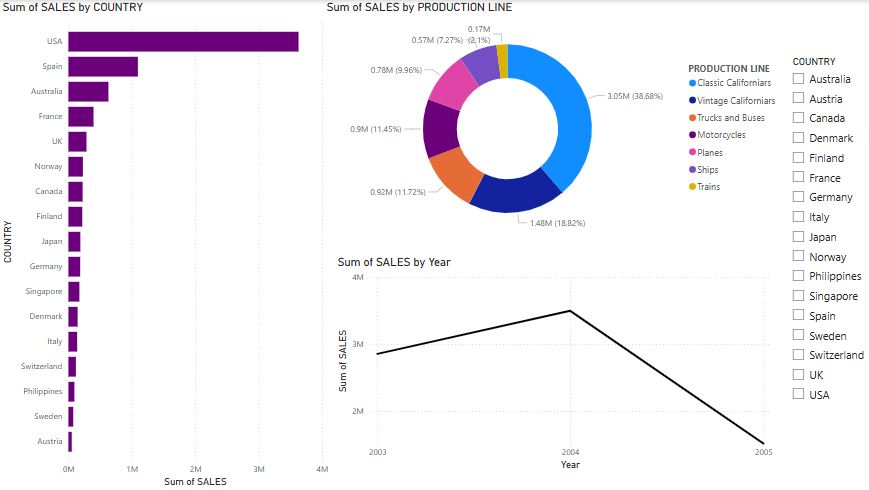

The page's visual inventory and layout, read from the dashboard file:
{"tool":"powerbi","page":{"name":"TASK - 8","canvas":[1280,720],"ordinal":0},"visuals":[{"type":"lineChart","fields":{"Category":["Sheet1.ORDER DATE.Variation.Date Hierarchy.Year","Sheet1.ORDER DATE.Variation.Date Hierarchy.Quarter","Sheet1.ORDER DATE.Variation.Date Hierarchy.Month","Sheet1.ORDER DATE.Variation.Date Hierarchy.Day"],"Y":["Sum(Sheet1.SALES)"]},"box":[492.2,374.7,649.5,321.8],"z":0},{"type":"barChart","fields":{"Y":["Sum(Sheet1 (2).SALES)"],"Category":["Sheet1 (2).COUNTRY"]},"box":[0,0,488.8,720.6],"z":1},{"type":"donutChart","fields":{"Y":["Sum(Sheet1 (2).SALES)"],"Category":["Sheet1 (2).PRODUCTION LINE"]},"box":[475.4,0,678.6,359.5],"z":2},{"type":"slicer","fields":{"Values":["Sheet1 (2).COUNTRY"]},"box":[1153.5,77.9,126.4,524.6],"z":3}]}

Visuals, with their boxes in screenshot pixels (x1, y1, x2, y2), scaled from the page's 1280x720 canvas onto the 869x490 screenshot:
lineChart - Sheet1.ORDER DATE.Variation.Date Hierarchy.Year x Sheet1.ORDER DATE.Variation.Date Hierarchy.Quarter: (left=334, top=255, right=775, bottom=474)
barChart - Sum(Sheet1 (2).SALES) x Sheet1 (2).COUNTRY: (left=0, top=0, right=332, bottom=489)
donutChart - Sum(Sheet1 (2).SALES) x Sheet1 (2).PRODUCTION LINE: (left=323, top=0, right=783, bottom=245)
slicer - Sheet1 (2).COUNTRY: (left=783, top=53, right=868, bottom=410)
